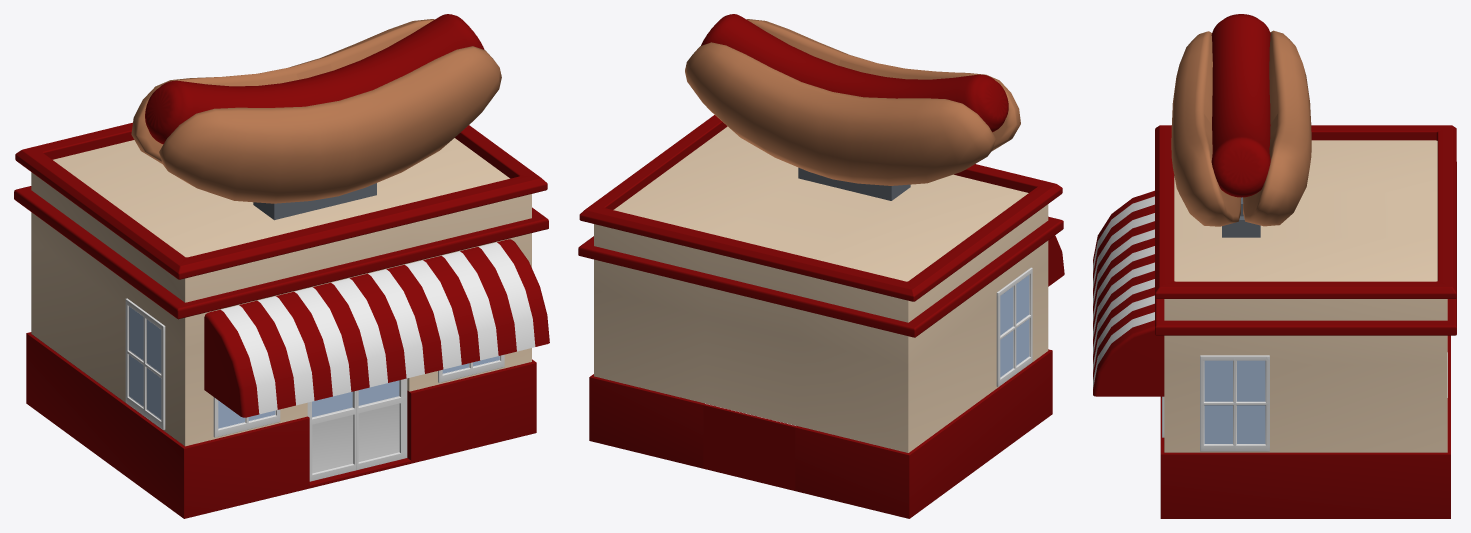
Rendered from Building #17.fbx.
3 views of the same model, side by side, from view 1: azimuth 30°, elevation 25°; view 2: azimuth 150°, elevation 25°; view 3: azimuth 270°, elevation 25° (orthographic). The views are drawn at different scales.
Parts seen in each view (by area): view 1: hotdog house; view 2: hotdog house; view 3: hotdog house.
Boxes of the visible parts, bbox=[...] form: hotdog house: bbox=[14, 14, 549, 518]; hotdog house: bbox=[578, 14, 1064, 518]; hotdog house: bbox=[1093, 14, 1456, 518].
Bounding box in the file's own units: 2086 × 2113 × 1924.
